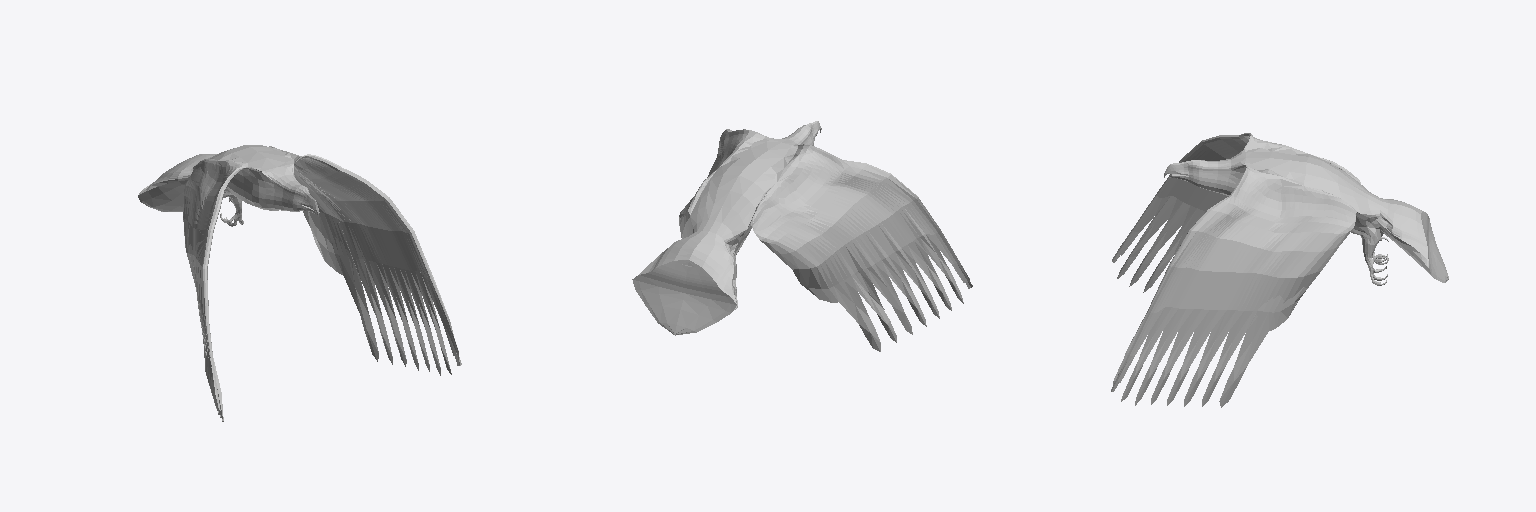
Rendered from Eagle-original_000070.obj.
3 renders of one model, left to right at view 1: azimuth 30°, elevation 25°; view 2: azimuth 150°, elevation 25°; view 3: azimuth 270°, elevation 25°, orthographic.
Parts seen in each view (by area): view 1: Flugel_Plane.003; view 2: Flugel_Plane.003; view 3: Flugel_Plane.003.
Boxes of the visible parts, x1=… form: Flugel_Plane.003: x1=138, y1=145, x2=461, y2=421; Flugel_Plane.003: x1=632, y1=121, x2=972, y2=351; Flugel_Plane.003: x1=1111, y1=133, x2=1448, y2=407.
Bounding box in the file's own units: 5.45 × 4.6 × 6.6.